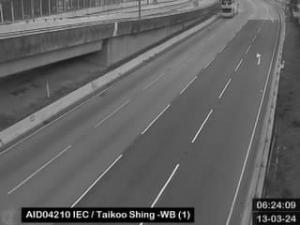bus: (222, 0, 238, 18)
